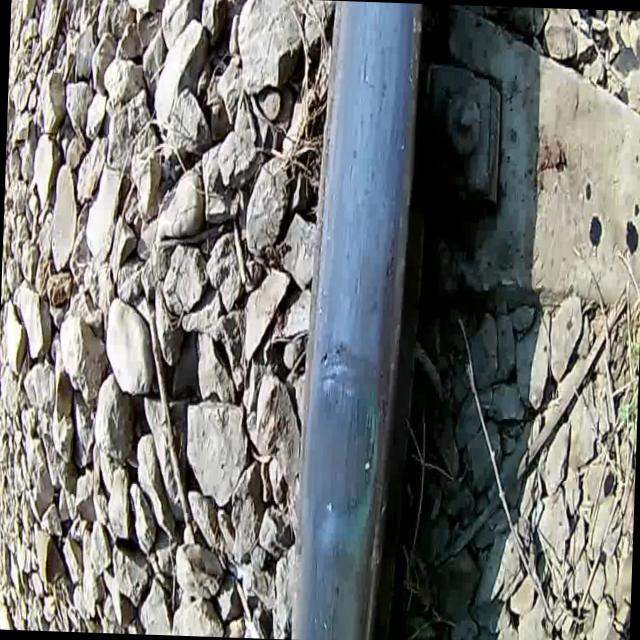Squats: (280, 0, 443, 640)
